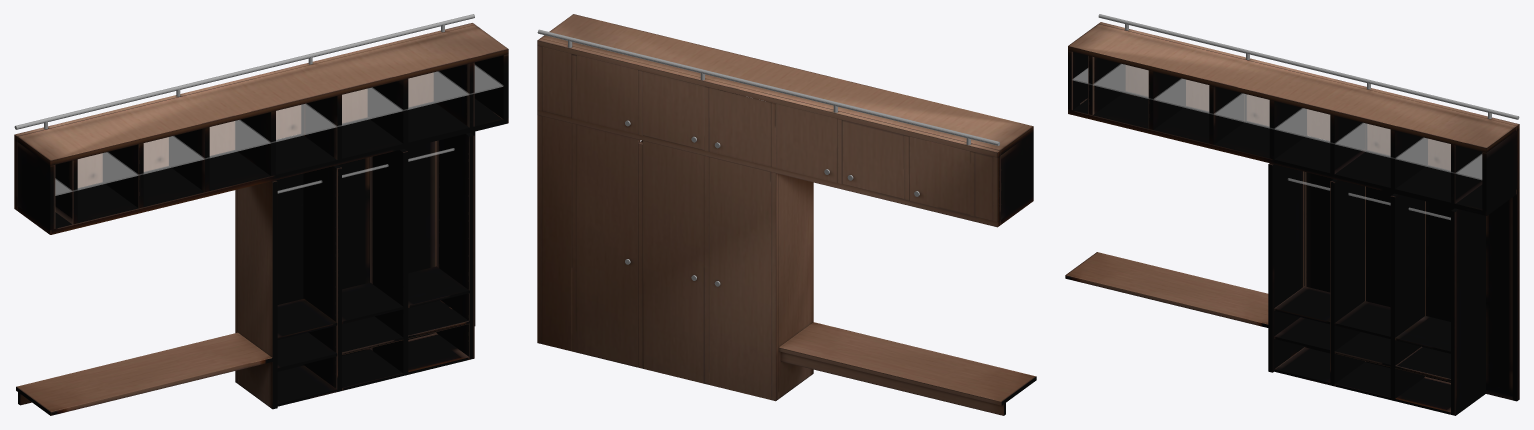
The model's file is Wardrobe.glb.
3 views of the same model, side by side, from view 1: azimuth 30°, elevation 25°; view 2: azimuth 150°, elevation 25°; view 3: azimuth 330°, elevation 25° (orthographic). The views are drawn at different scales.
Visible parts, largest first — view 1: Wardrobe; view 2: Wardrobe; view 3: Wardrobe.
Part boxes in pixels (box(x1,y1,x2,y2)): Wardrobe: box(14, 14, 508, 415); Wardrobe: box(537, 14, 1036, 415); Wardrobe: box(1065, 14, 1519, 415).
Size of the model in its own units: 1.87 by 1.21 by 0.2753.
3 materials, 1 textured.
